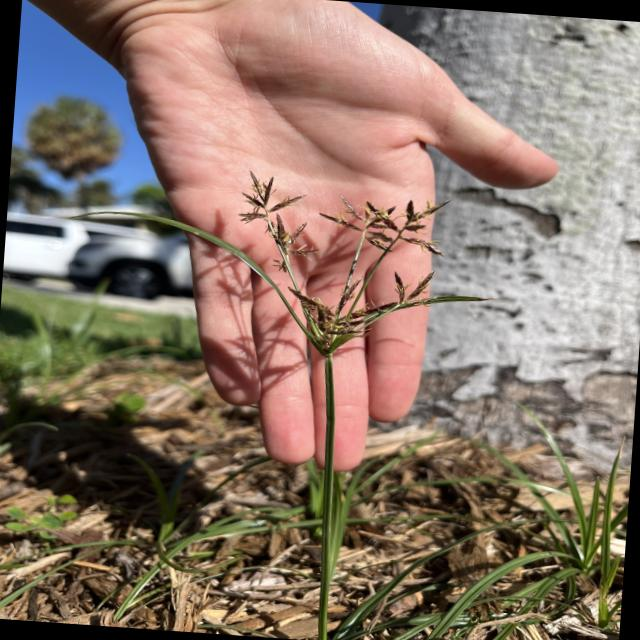cyperus: (215, 166, 476, 370)
